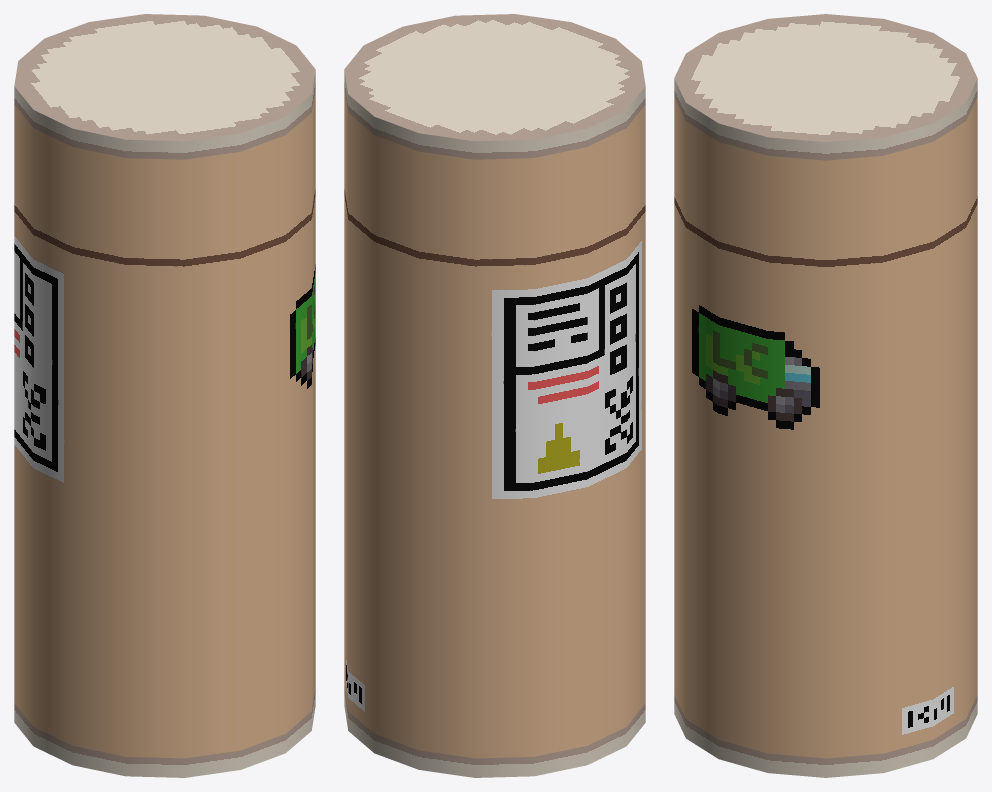
Rendered from TubeSmall.glb.
3 views of the same model, side by side, from view 1: azimuth 30°, elevation 25°; view 2: azimuth 150°, elevation 25°; view 3: azimuth 270°, elevation 25° (orthographic).
Parts seen in each view (by area): view 1: TubePackageSmall; view 2: TubePackageSmall; view 3: TubePackageSmall.
Boxes of the visible parts, x1,y1,x2,y2 form: TubePackageSmall: [14, 14, 315, 777]; TubePackageSmall: [344, 14, 645, 777]; TubePackageSmall: [674, 14, 977, 777].
Bounding box in the file's own units: 0.1648 × 0.3811 × 0.1648.
1 material, 1 textured.
